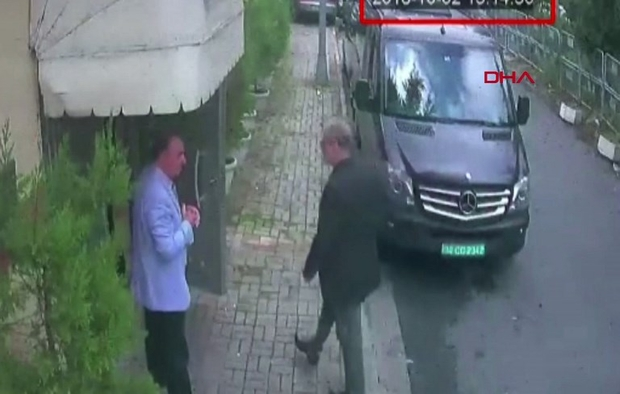Person: (289, 116, 404, 394), (125, 131, 213, 394)
